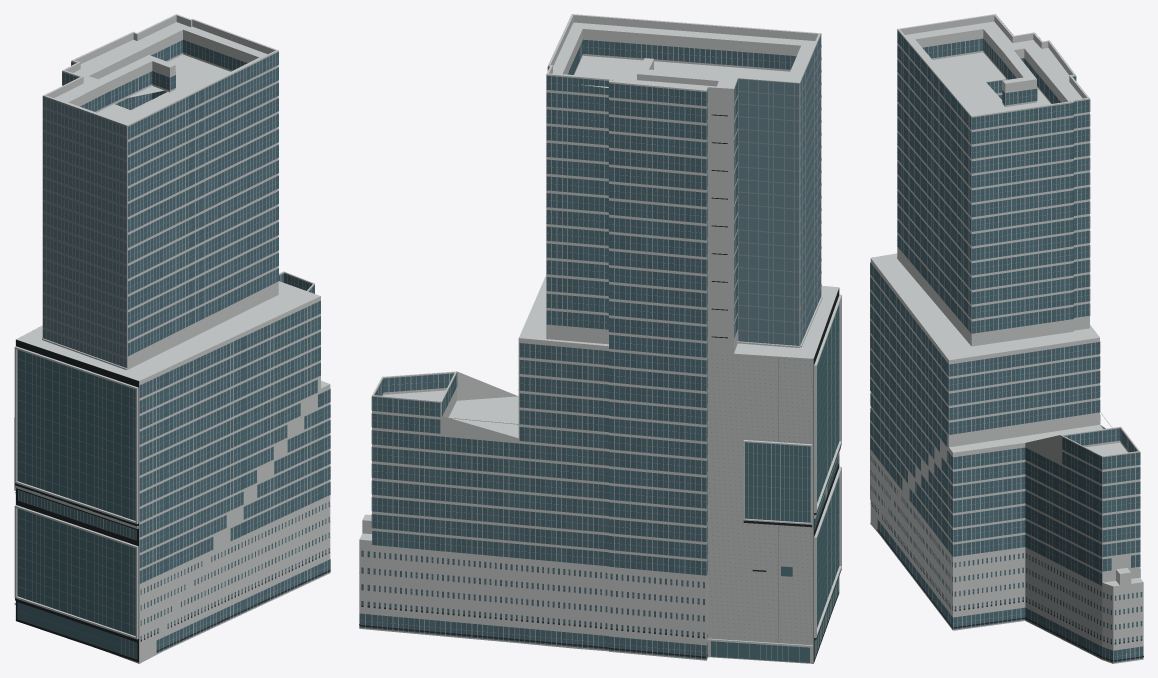
The model's file is hikarie.glb.
3 views of the same model, side by side, from view 1: azimuth 30°, elevation 25°; view 2: azimuth 150°, elevation 25°; view 3: azimuth 270°, elevation 25° (orthographic). The views are drawn at different scales.
Parts seen in each view (by area): view 1: hikarie_wall, hikarie_podium_glass, hikarie_glass2, hikarie_glass0, hikarie_glass1, hikarie_tower_glass, hikarie_silver_frame, hikarie_roof, hikarie_tower_spandrel, hikarie_frame, hikarie_spandrel, hikarie_dark (+1 smaller); view 2: hikarie_wall, hikarie_glass2, hikarie_glass0, hikarie_glass1, hikarie_pale_cladding, hikarie_tower_glass, hikarie_frame, hikarie_roof, hikarie_podium_glass, hikarie_spandrel, hikarie_silver_frame, hikarie_tower_spandrel (+3 smaller); view 3: hikarie_wall, hikarie_glass2, hikarie_glass0, hikarie_glass1, hikarie_roof, hikarie_frame, hikarie_spandrel, hikarie_sign_housing.
Boxes of the visible parts, x1,y1,x2,y2 form: hikarie_wall: (19, 15, 330, 663); hikarie_podium_glass: (17, 350, 137, 659); hikarie_glass2: (62, 40, 330, 649); hikarie_glass0: (74, 41, 330, 652); hikarie_glass1: (66, 40, 330, 651); hikarie_tower_glass: (43, 97, 126, 367); hikarie_silver_frame: (14, 96, 138, 657); hikarie_roof: (16, 14, 329, 388); hikarie_tower_spandrel: (17, 96, 136, 650); hikarie_frame: (62, 41, 330, 653); hikarie_spandrel: (62, 37, 330, 576); hikarie_dark: (15, 339, 138, 662); hikarie_wall: (359, 15, 839, 663); hikarie_glass2: (359, 39, 796, 656); hikarie_glass0: (361, 41, 790, 659); hikarie_glass1: (361, 40, 742, 658); hikarie_pale_cladding: (707, 87, 813, 663); hikarie_tower_glass: (738, 35, 821, 345); hikarie_frame: (359, 41, 791, 658); hikarie_roof: (359, 14, 838, 540); hikarie_podium_glass: (711, 305, 839, 662); hikarie_spandrel: (359, 37, 797, 659); hikarie_silver_frame: (707, 44, 841, 661); hikarie_tower_spandrel: (713, 34, 839, 662); hikarie_wall: (870, 15, 1143, 663); hikarie_glass2: (870, 30, 1142, 660); hikarie_glass0: (870, 36, 1142, 662); hikarie_glass1: (870, 32, 1143, 661); hikarie_roof: (871, 14, 1143, 586); hikarie_frame: (870, 37, 1141, 662); hikarie_spandrel: (870, 36, 1143, 663); hikarie_sign_housing: (870, 503, 1143, 661).
Bounding box in the file's own units: 132 × 185 × 92.64.
